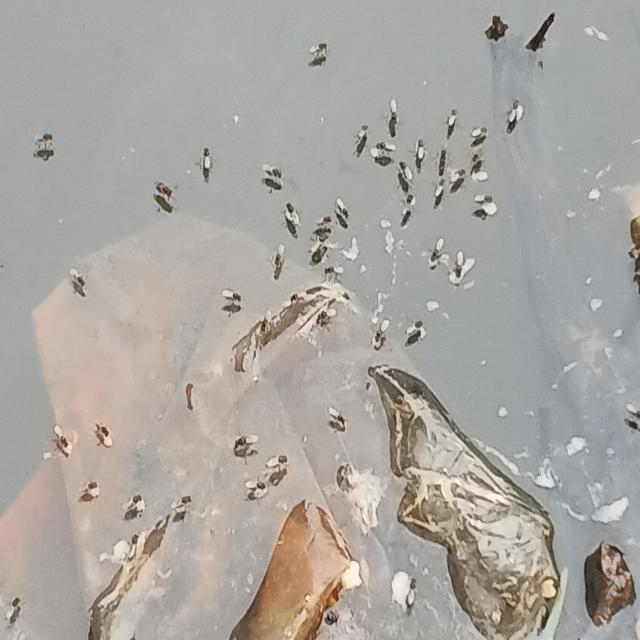Mosquito: (202, 276, 254, 318), (187, 142, 226, 197), (297, 35, 341, 82), (40, 416, 76, 466), (143, 170, 180, 214), (60, 262, 92, 312), (28, 124, 60, 163)
Mosquito Swarm: (269, 108, 523, 346)
